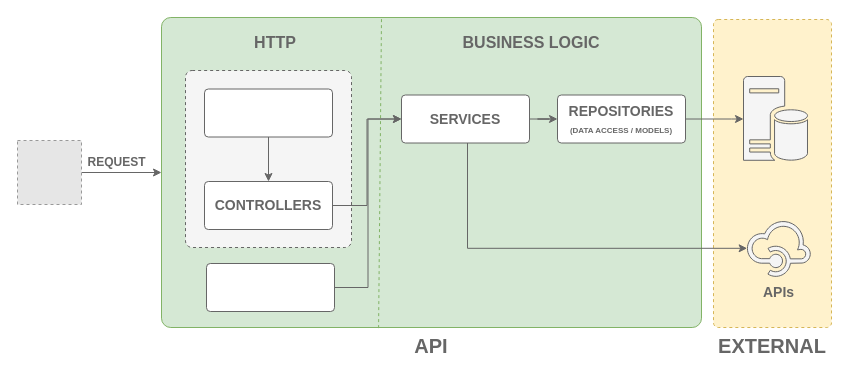
Some shapes in this 849 by 376 pixel diagram are drawn without their labels. Grey dashed boxes stand in for pictures. The shapes that lost their labels are listed below. From the top down, each one's centre as x and y in pixels, then its label:
At [268,112]: "ROUTERS".
At [775,118]: "DATABASE".
At [270,287]: "GRAPHQL".
